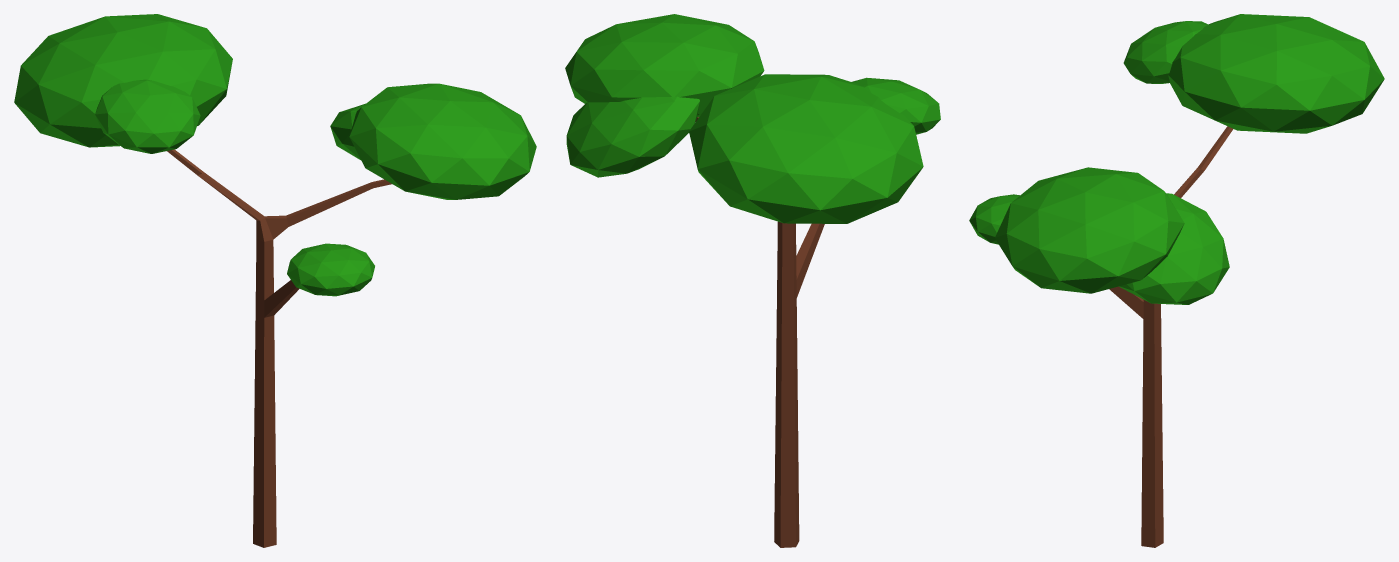
Rendered from tree.fbx.
3 views of the same model, side by side, from view 1: azimuth 30°, elevation 25°; view 2: azimuth 150°, elevation 25°; view 3: azimuth 270°, elevation 25° (orthographic). The views are drawn at different scales.
Visible parts, largest first — view 1: Icosphere.001, Icosphere, Cylinder, Icosphere.003, Icosphere.002, Icosphere.004; view 2: Icosphere.001, Icosphere, Cylinder, Icosphere.004, Icosphere.003; view 3: Icosphere.001, Icosphere, Cylinder, Icosphere.004, Icosphere.003, Icosphere.002.
Boxes of the visible parts, x1,y1,x2,y2 form: Icosphere.001: (14,14,232,147); Icosphere: (349,83,536,199); Cylinder: (167,149,391,547); Icosphere.003: (95,79,200,153); Icosphere.002: (287,243,374,296); Icosphere.004: (330,103,365,160); Icosphere.001: (689,74,923,223); Icosphere: (565,14,764,117); Cylinder: (695,117,824,547); Icosphere.004: (566,96,699,177); Icosphere.003: (852,77,940,134); Icosphere.001: (1168,14,1384,133); Icosphere: (995,167,1184,293); Cylinder: (1109,126,1233,547); Icosphere.004: (1119,193,1229,304); Icosphere.003: (1123,21,1208,83); Icosphere.002: (969,194,1019,244).
Size of the model in its own units: 3671 by 4260 by 3354.
